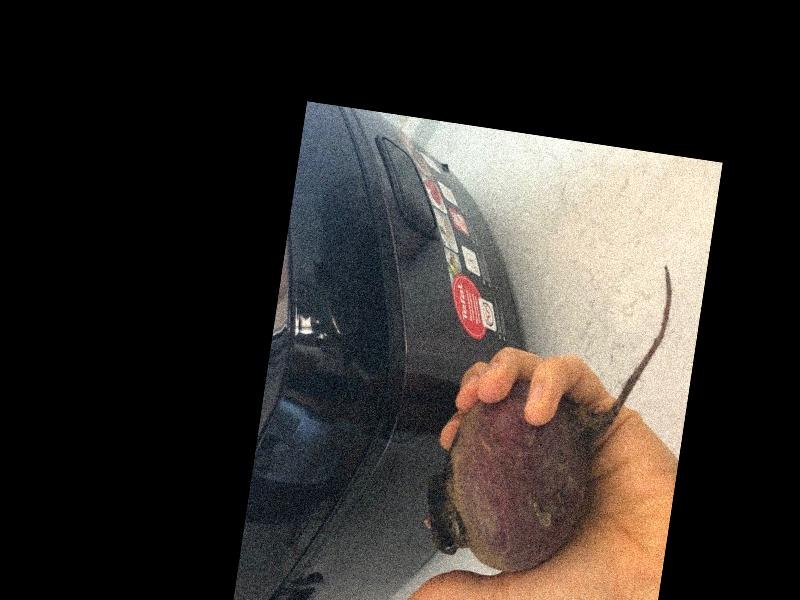Beet: (417, 234, 677, 589)
